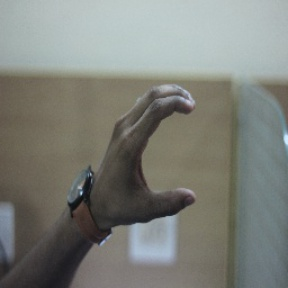C: (96, 71, 207, 217)
